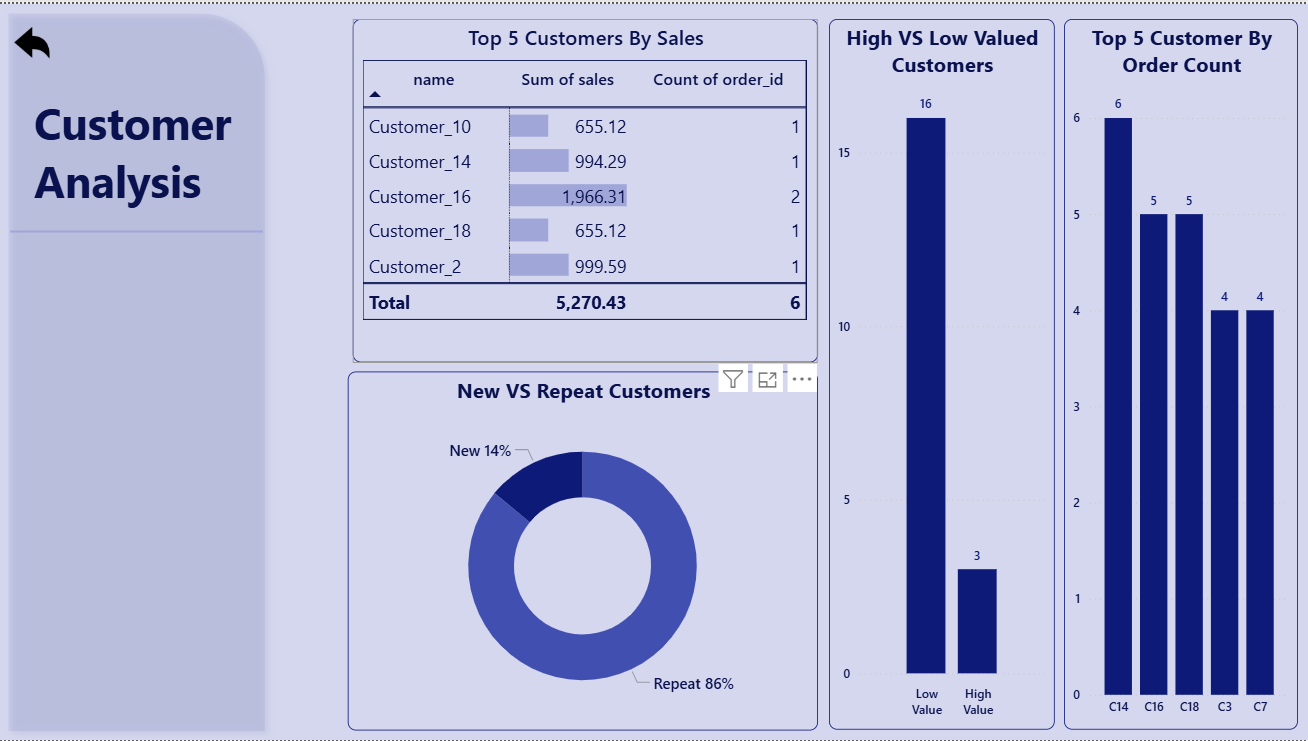

The page's visual inventory and layout, read from the dashboard file:
{"tool":"powerbi","page":{"name":"Customer Analysis","canvas":[1280,720],"ordinal":1},"visuals":[{"type":"shape","box":[0,0,269,720.2],"z":0},{"type":"columnChart","title":"High VS Low Valued Customers","fields":{"Category":["High VS Low Value.segment"],"Y":["CountNonNull(High VS Low Value.customer_id)"]},"box":[811.6,15,220.4,695.1],"z":2000},{"type":"donutChart","title":"New VS Repeat Customers","fields":{"Category":["New VS Repeat.customer_type"],"Y":["Sum(New VS Repeat.total_orders)"]},"box":[341.2,359.5,459.8,351],"z":4000},{"type":"tableEx","title":"Top 5 Customers By Sales","fields":{"Values":["public cleaned_customers.name","Sum(public cleaned_order_details.sales)","public cleaned_order_details.order_id"]},"box":[346.1,14.7,454.9,336.3],"z":5000},{"type":"textbox","box":[29.3,181,160.2,61.1],"z":6000},{"type":"textbox","box":[29.3,81.9,227.4,129.6],"z":7000},{"type":"shape","box":[11,150.4,247,144.3],"z":8000},{"type":"columnChart","title":"Top 5 Customer By Order Count","fields":{"Category":["New VS Repeat.customer_id"],"Y":["Sum(Repeat Customers.order_count)"]},"box":[1042,15,229.2,695.1],"z":8001},{"type":"image","box":[11,14.7,42.8,46.5],"z":8002}]}

Visuals, with their boxes in screenshot pixels (x1, y1, x2, y2), scaled from the page's 1280x720 canvas onto the 1308x741 screenshot:
shape: BBox(0, 0, 275, 740)
"High VS Low Valued Customers" columnChart: BBox(829, 15, 1055, 731)
"New VS Repeat Customers" donutChart: BBox(349, 370, 819, 731)
"Top 5 Customers By Sales" tableEx: BBox(354, 15, 819, 361)
textbox: BBox(30, 186, 194, 249)
textbox: BBox(30, 84, 262, 218)
shape: BBox(11, 155, 264, 303)
"Top 5 Customer By Order Count" columnChart: BBox(1065, 15, 1299, 731)
image: BBox(11, 15, 55, 63)
